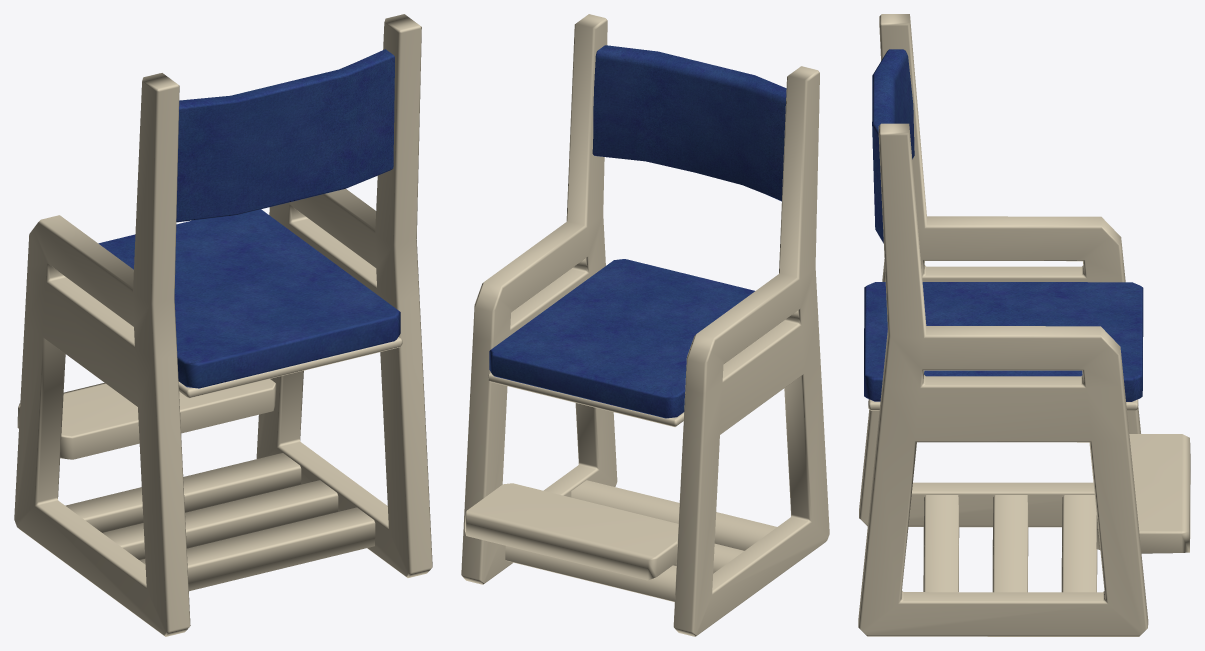
File: Chair.fbx
The picture shows the model from 3 angles, left to right: view 1: azimuth 30°, elevation 25°; view 2: azimuth 150°, elevation 25°; view 3: azimuth 270°, elevation 25°; orthographic projection. The views are drawn at different scales.
Parts seen in each view (by area): view 1: chair; view 2: chair; view 3: chair.
Part boxes in pixels (bbox=[...]): chair: bbox=[14, 14, 432, 636]; chair: bbox=[461, 14, 829, 636]; chair: bbox=[858, 14, 1190, 636].
Bounding box in the file's own units: 356 × 694 × 414.
Materials: 1 (1 with a texture image).
